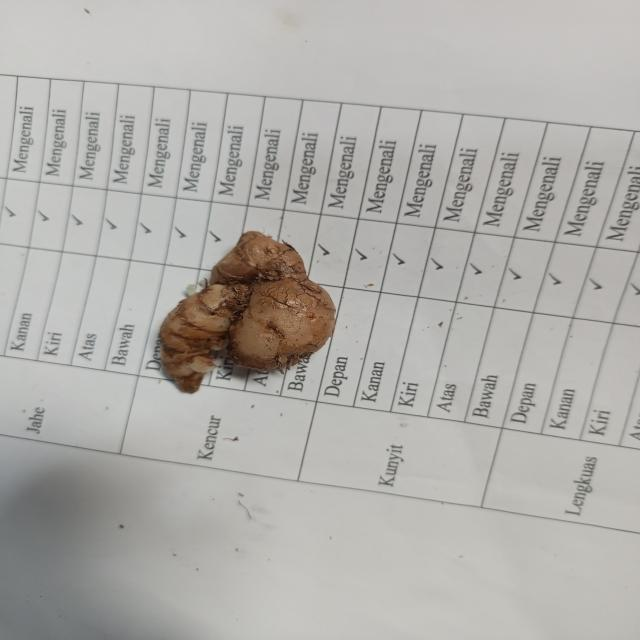ginger: (158, 236, 337, 386)
